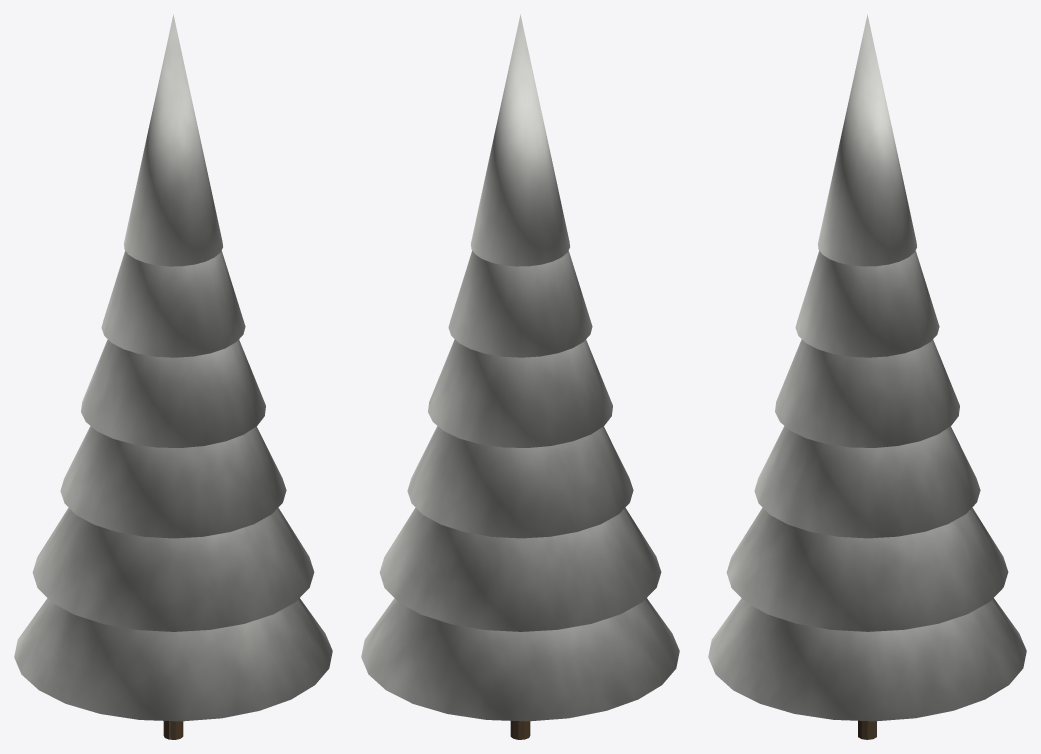
File: smrk_v0.glb
3 views of the same model, side by side, from view 1: azimuth 30°, elevation 25°; view 2: azimuth 150°, elevation 25°; view 3: azimuth 270°, elevation 25° (orthographic).
Visible parts, largest first — view 1: dum; view 2: dum; view 3: dum.
Part boxes in pixels (box(x1,y1,x2,y2)): dum: box(14, 14, 332, 739); dum: box(361, 14, 679, 739); dum: box(708, 14, 1026, 739).
Bounding box in the file's own units: 5.08 × 12.69 × 5.08.
Materials: 1 (1 with a texture image).
